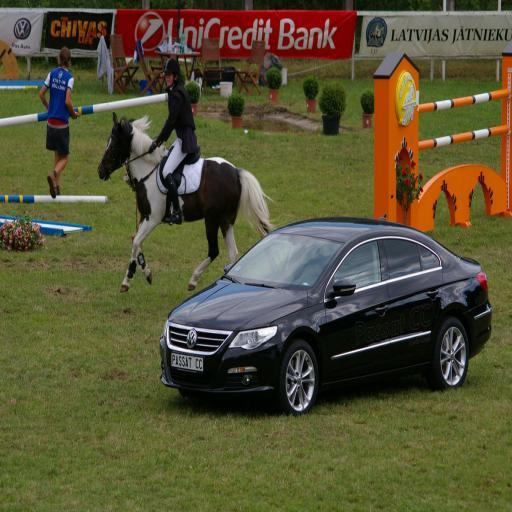Horse: (95, 110, 281, 295)
